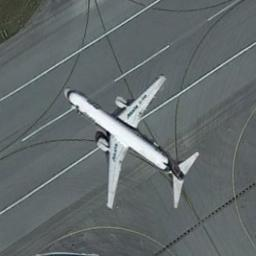Airplane: (63, 74, 200, 210)
